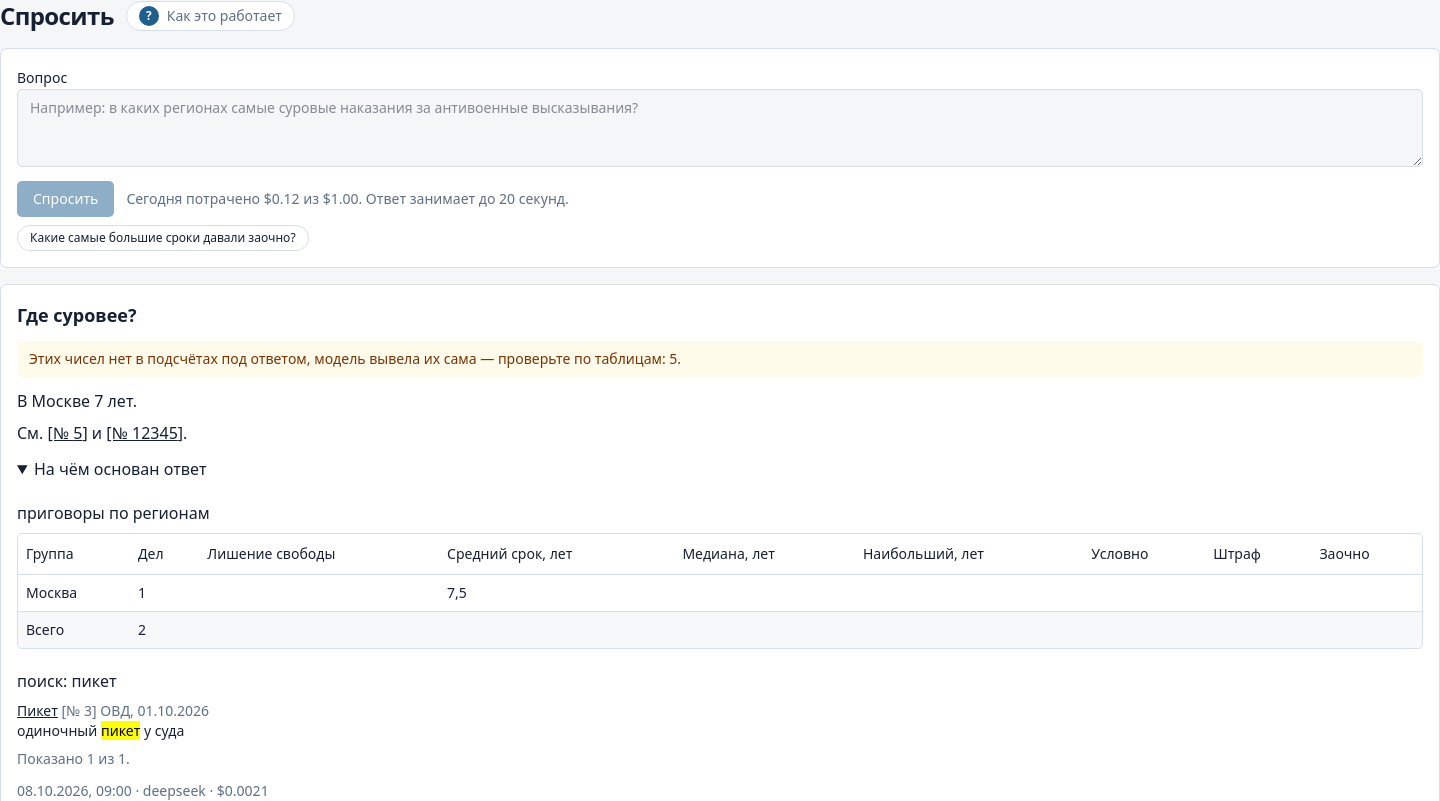
says why nothing was asked
Replace the text in the text box labelled "Вопрос" with "Сколько?" at point(720, 128), box [17, 89, 1423, 167]
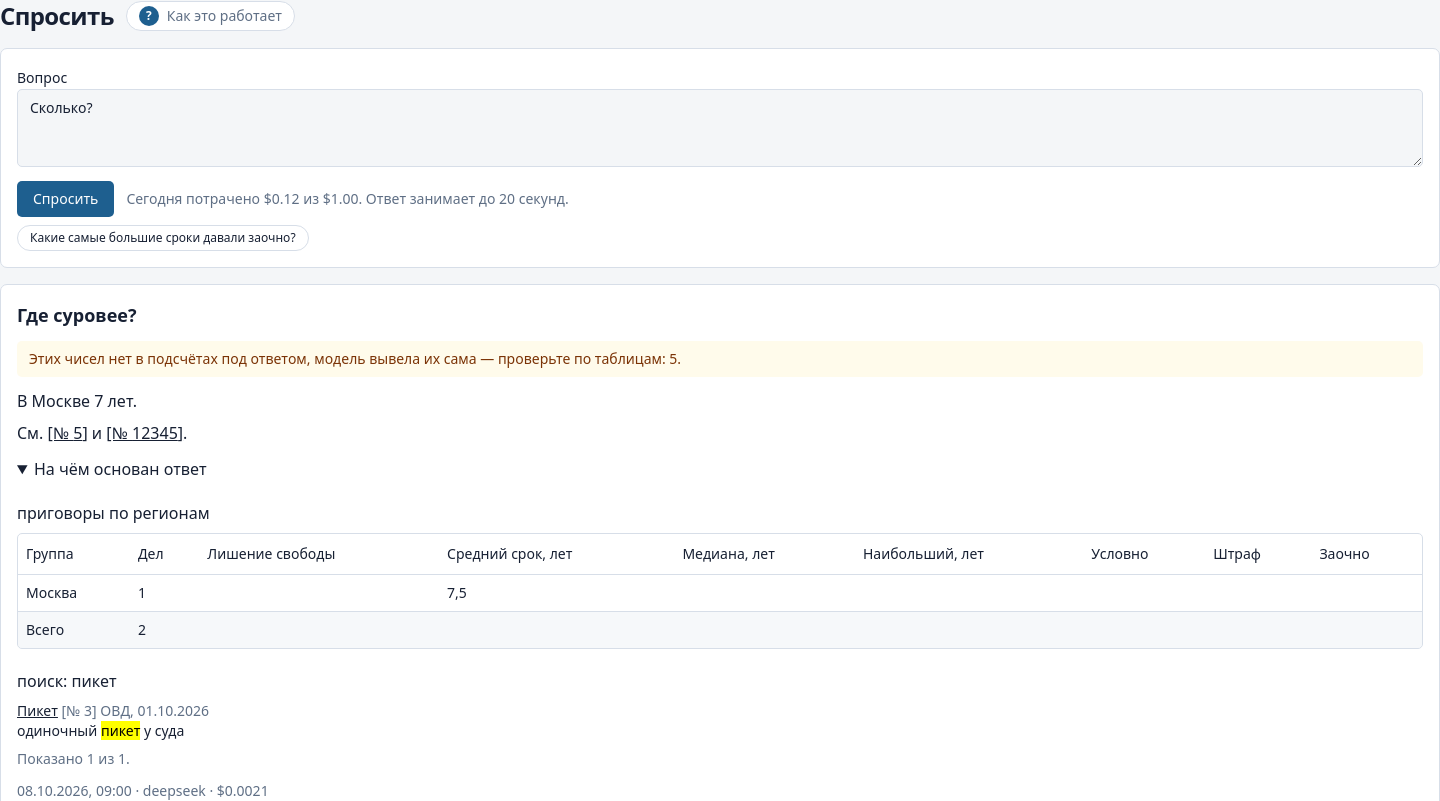
Click the button "Спросить" at point(66, 199), box [17, 181, 114, 217]
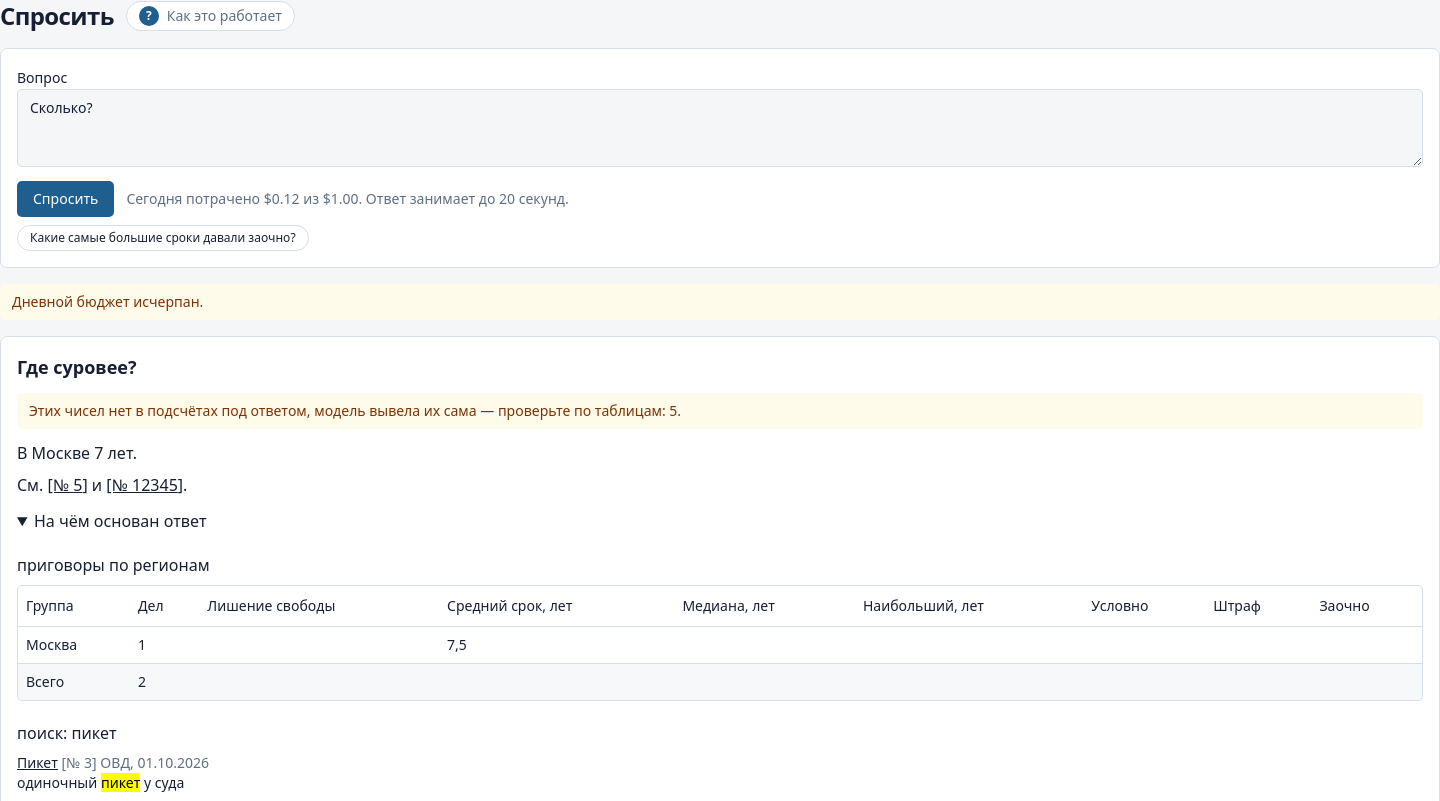
Expected: the text "Дневной бюджет исчерпан." is shown, [0, 284, 1439, 320]
